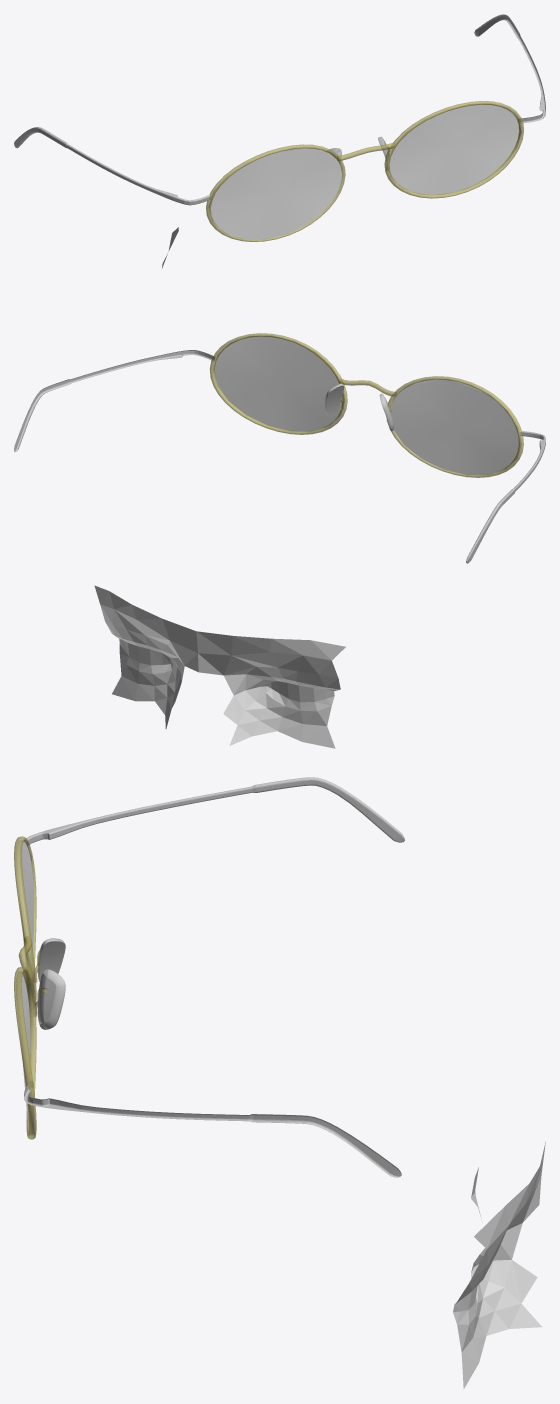
Rendered from newhair2e.gltf.
3 views of the same model, one above another, from view 1: azimuth 30°, elevation 25°; view 2: azimuth 150°, elevation 25°; view 3: azimuth 270°, elevation 25° (orthographic). The views are drawn at different scales.
Visible parts, largest first — view 1: Specs_Rlens, Specs_Llens, Specs_R_rim, Specs_L_rim, Specs_R_leg, Specs_L_leg; view 2: facemesh.000, Specs_Rlens, Specs_Llens, Specs_R_rim, Specs_L_rim, Specs_L_leg, Specs_R_leg, Specs_nosepiece01; view 3: facemesh.000, Specs_L_leg, Specs_R_leg, Specs_nosepiece01, Specs_R_rim, Specs_L_rim, Specs_Llens, Specs_Rlens.
Part boxes in pixels (x1,y1,x2,y2): Specs_Rlens: [208, 147, 341, 239]; Specs_Llens: [388, 103, 521, 195]; Specs_R_rim: [384, 101, 523, 198]; Specs_L_rim: [206, 144, 345, 241]; Specs_R_leg: [14, 127, 210, 205]; Specs_L_leg: [474, 14, 545, 123]; facemesh.000: [94, 585, 345, 748]; Specs_Rlens: [391, 379, 521, 474]; Specs_Llens: [213, 336, 344, 431]; Specs_R_rim: [209, 333, 347, 434]; Specs_L_rim: [386, 376, 523, 477]; Specs_L_leg: [14, 350, 214, 452]; Specs_R_leg: [466, 431, 545, 563]; Specs_nosepiece01: [325, 383, 393, 430]; facemesh.000: [453, 1141, 545, 1389]; Specs_L_leg: [24, 1081, 401, 1177]; Specs_R_leg: [24, 777, 404, 860]; Specs_nosepiece01: [37, 938, 65, 1029]; Specs_R_rim: [14, 966, 36, 1139]; Specs_L_rim: [14, 836, 36, 1005]; Specs_Llens: [16, 971, 33, 1135]; Specs_Rlens: [16, 840, 33, 990].
Size of the model in its own units: 7.2 by 3.82 by 4.74.
